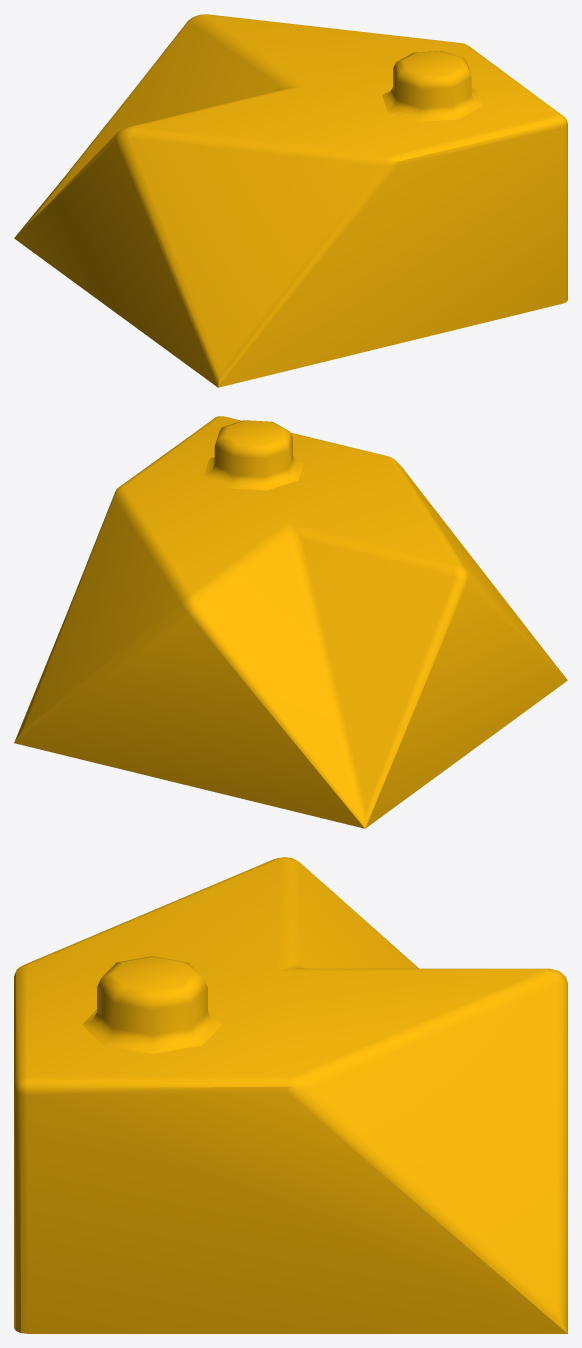
Rendered from Lowered_Corner_Two_Vertex_Bevels_Opposite_Half.fbx.
3 renders of one model, top to bottom at view 1: azimuth 30°, elevation 25°; view 2: azimuth 150°, elevation 25°; view 3: azimuth 270°, elevation 25°, orthographic. The views are drawn at different scales.
Visible parts, largest first — view 1: Lowered_Corner_Two_Vertex_Bevels_Opposite_Half, Knobs.029; view 2: Lowered_Corner_Two_Vertex_Bevels_Opposite_Half, Knobs.029; view 3: Lowered_Corner_Two_Vertex_Bevels_Opposite_Half, Knobs.029.
Boxes of the visible parts, x1=… form: Lowered_Corner_Two_Vertex_Bevels_Opposite_Half: x1=14, y1=14, x2=567, y2=387; Knobs.029: x1=382, y1=51, x2=482, y2=121; Lowered_Corner_Two_Vertex_Bevels_Opposite_Half: x1=14, y1=416, x2=567, y2=828; Knobs.029: x1=204, y1=420, x2=303, y2=490; Lowered_Corner_Two_Vertex_Bevels_Opposite_Half: x1=14, y1=857, x2=567, y2=1333; Knobs.029: x1=82, y1=956, x2=222, y2=1053.
Bounding box in the file's own units: 1 × 0.6 × 1.
